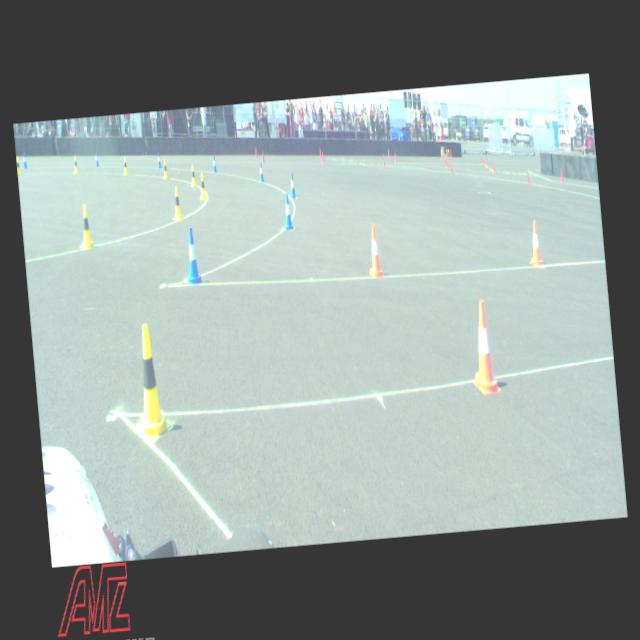blue_cone: (182, 226, 203, 284), (282, 192, 294, 230), (288, 172, 296, 198), (258, 161, 264, 181), (156, 152, 162, 168), (22, 152, 27, 168), (94, 151, 99, 166), (212, 155, 216, 172)
orange_cone: (465, 298, 501, 396), (364, 223, 384, 278), (526, 220, 544, 267)
unknown_cone: (558, 168, 564, 184), (526, 168, 530, 184), (260, 150, 264, 163), (382, 154, 386, 167), (492, 160, 496, 173), (448, 160, 452, 173), (318, 147, 322, 158), (321, 150, 324, 163), (387, 148, 390, 160), (254, 146, 257, 158), (486, 156, 489, 168), (443, 153, 446, 164), (481, 154, 484, 164), (445, 158, 448, 168), (442, 149, 445, 159), (449, 148, 452, 157), (394, 152, 396, 164)
yellow_cone: (126, 322, 172, 442), (76, 203, 94, 248), (169, 186, 183, 219), (198, 172, 207, 198), (188, 164, 196, 186), (122, 156, 130, 174), (161, 159, 168, 178), (72, 155, 79, 173), (16, 156, 21, 175)
